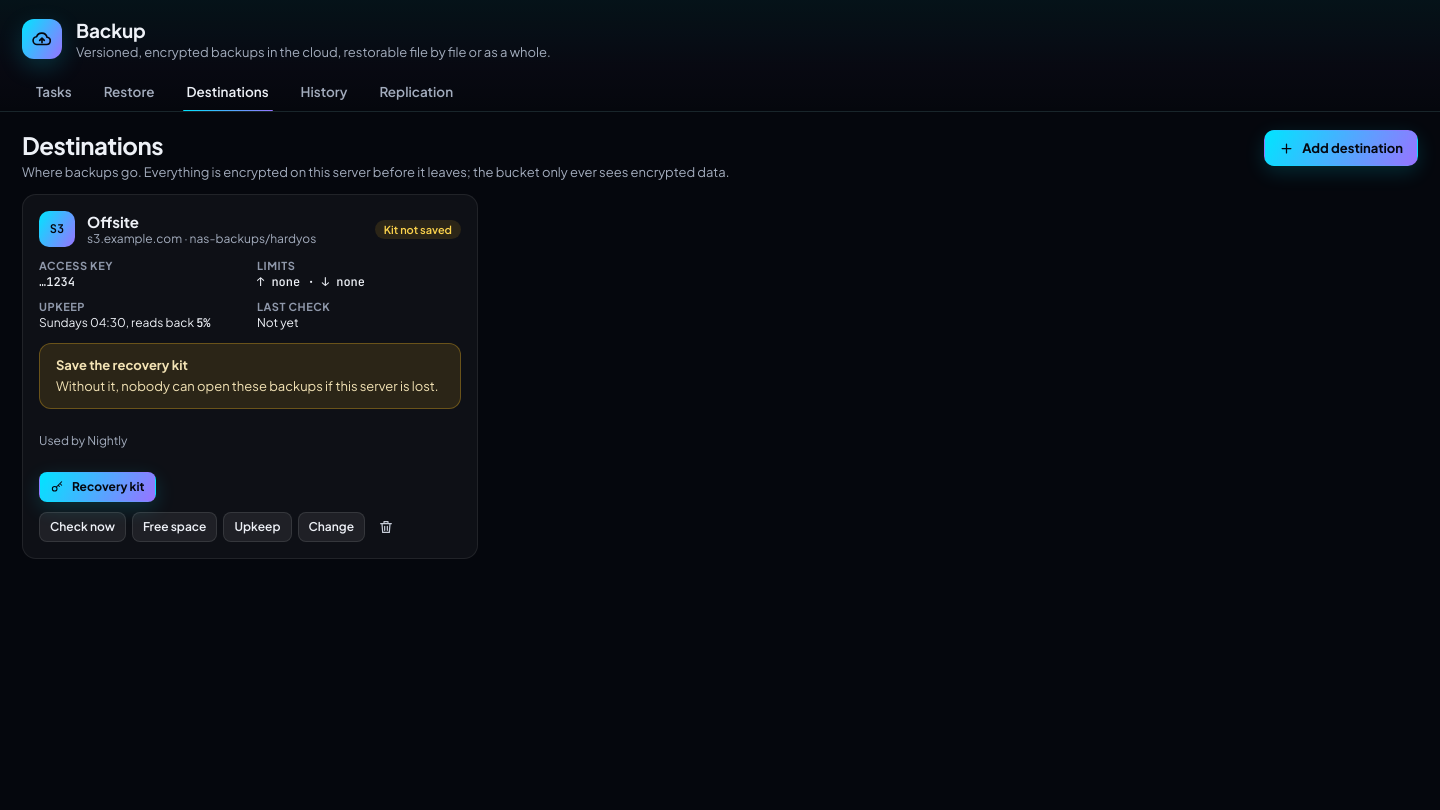
Test: Backup app › asks for the password before handing out the recovery kit
Click the button "Recovery kit" at (97, 487), box [39,472,156,502]
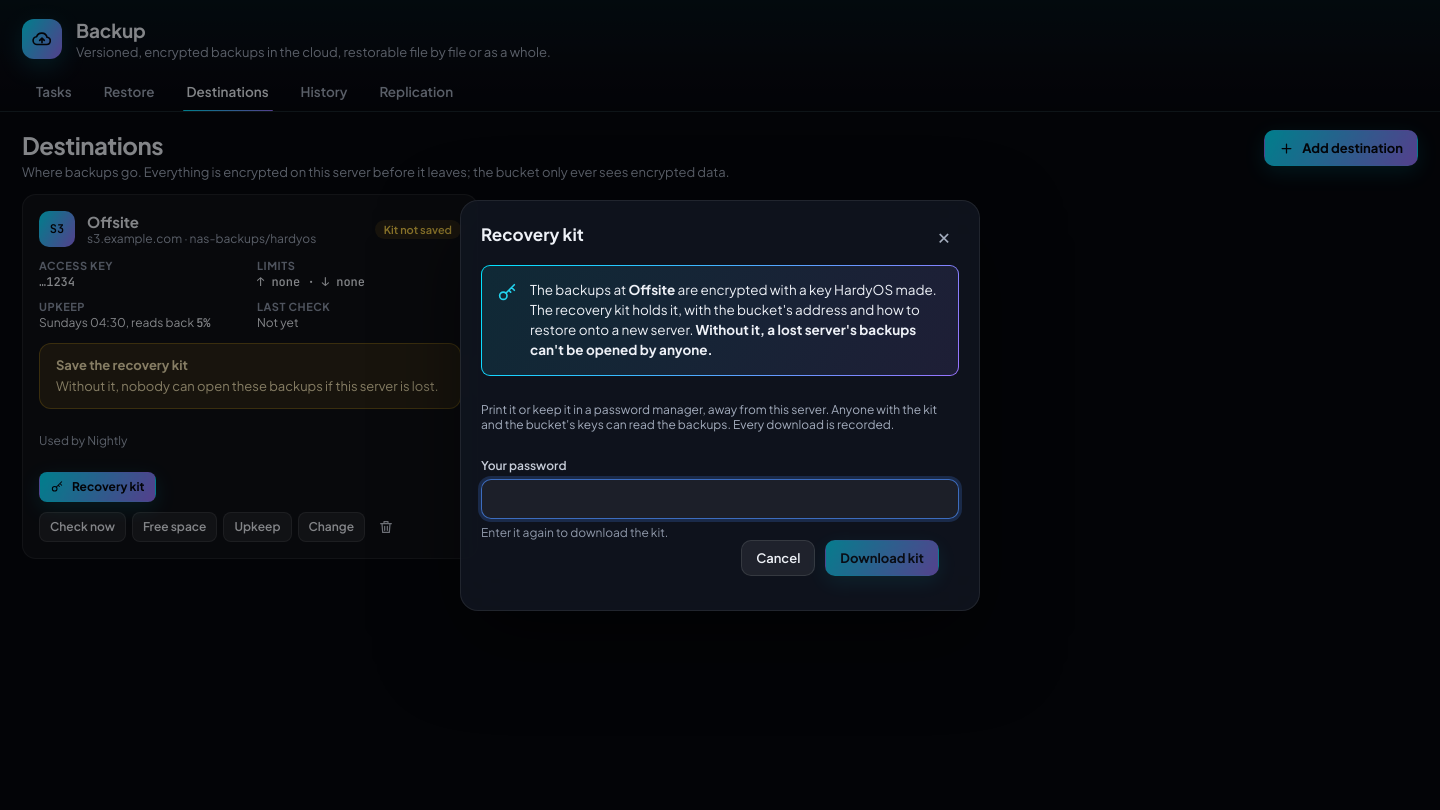
Expected: the button "Download kit" is disabled, [825,540,939,576]
Type "supersecret1" into the password field labelled "Your password" at (720, 498), box [481,478,959,518]
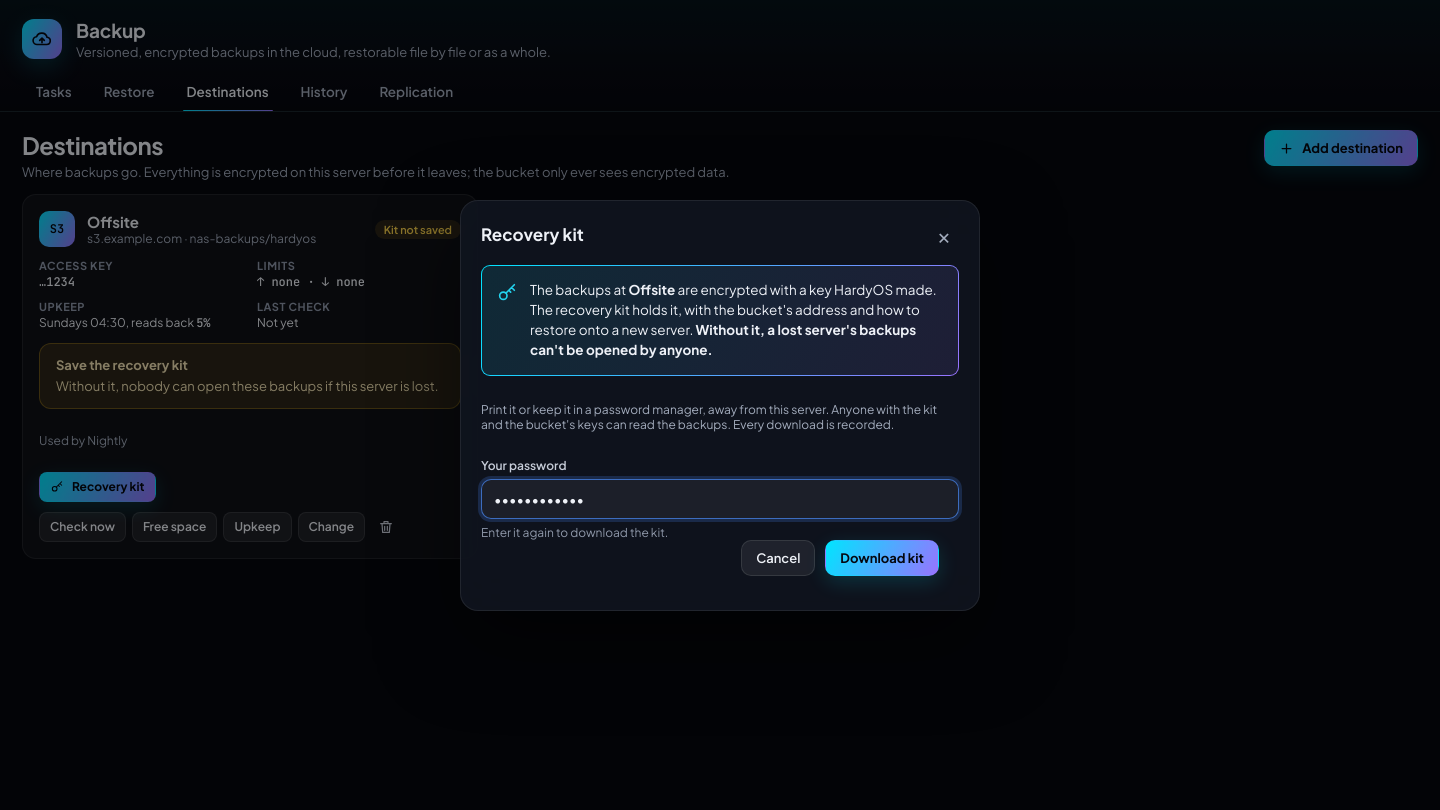
Click the button "Download kit" at (882, 558), box [825,540,939,576]
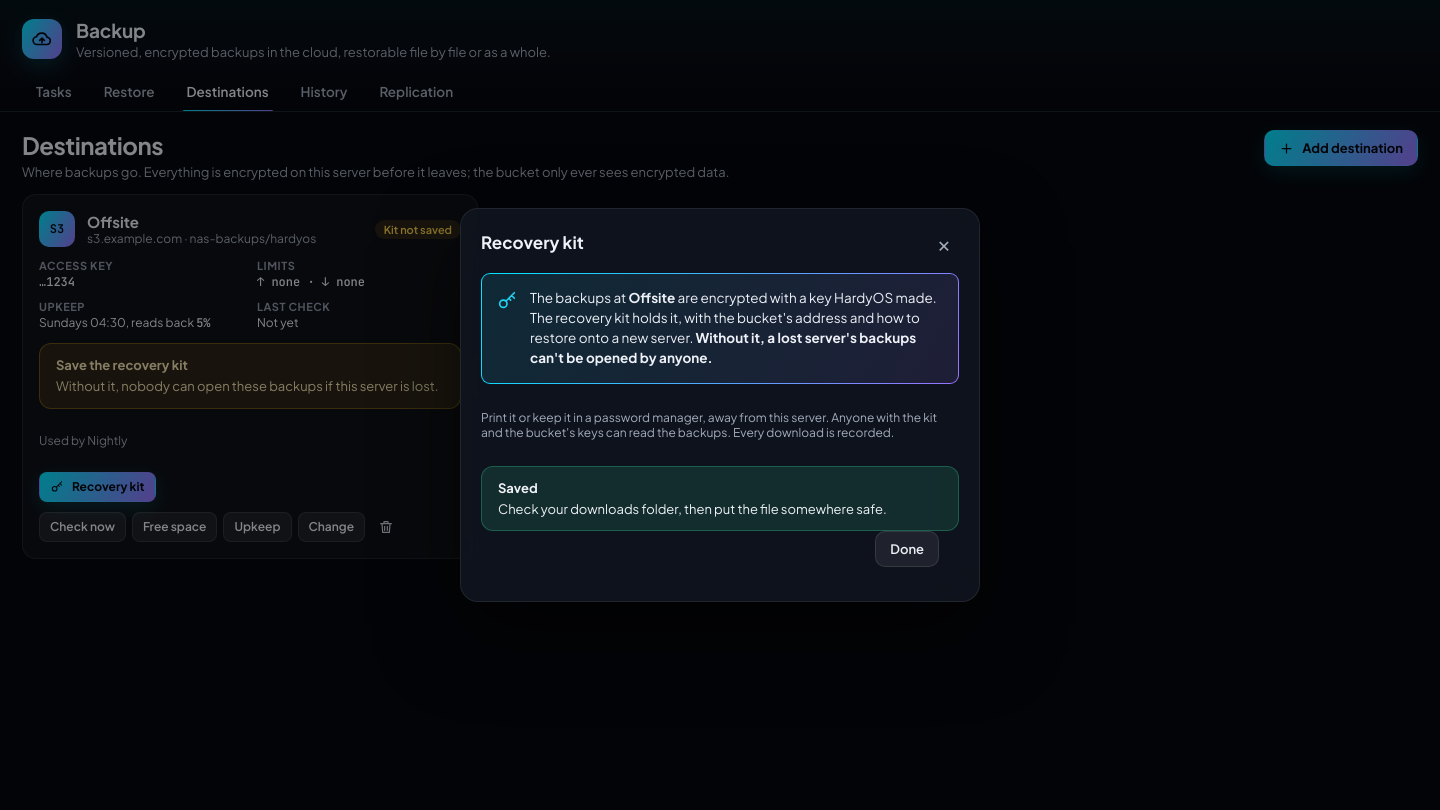
Expected: the text "Saved" is shown, [498,480,538,496]
